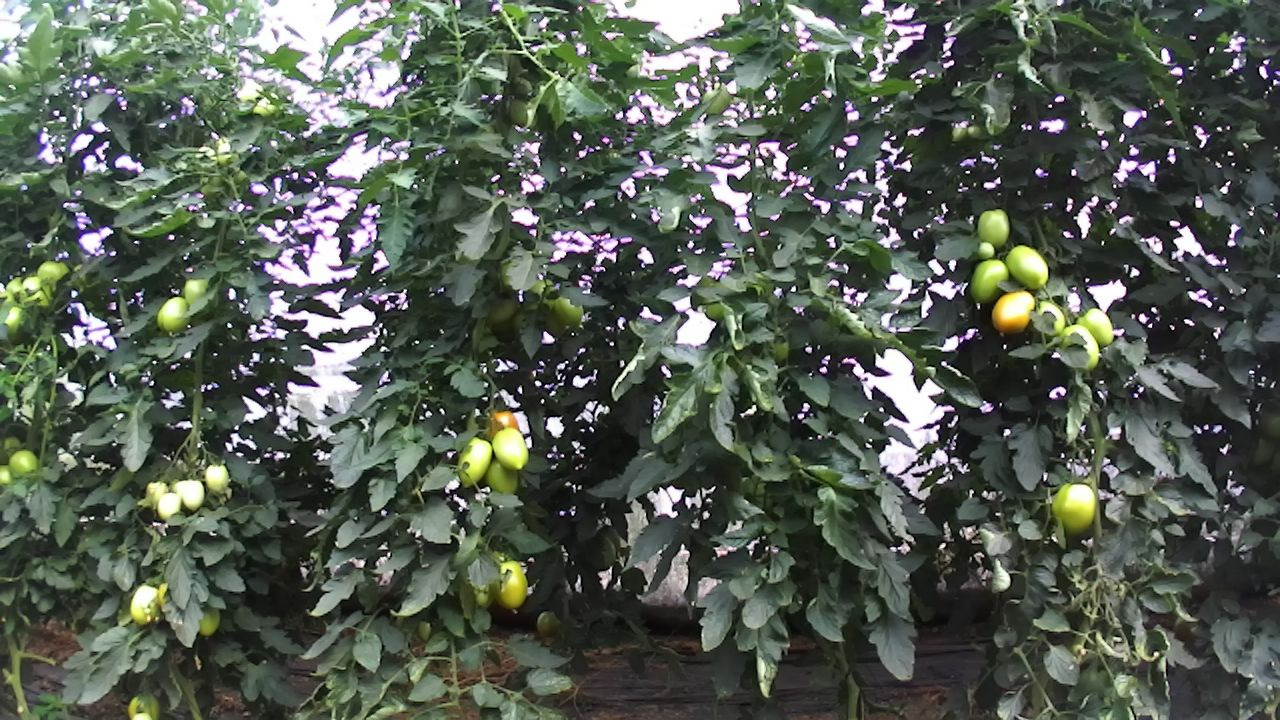tomato: (1048, 482, 1097, 538), (452, 433, 498, 491), (1002, 242, 1050, 291), (989, 287, 1036, 336), (967, 257, 1010, 308), (490, 557, 529, 613), (490, 425, 530, 473), (1075, 305, 1115, 349), (974, 205, 1010, 252), (126, 581, 162, 627), (154, 294, 191, 334), (552, 291, 585, 330), (8, 446, 41, 479), (203, 462, 230, 494), (975, 239, 995, 261)
